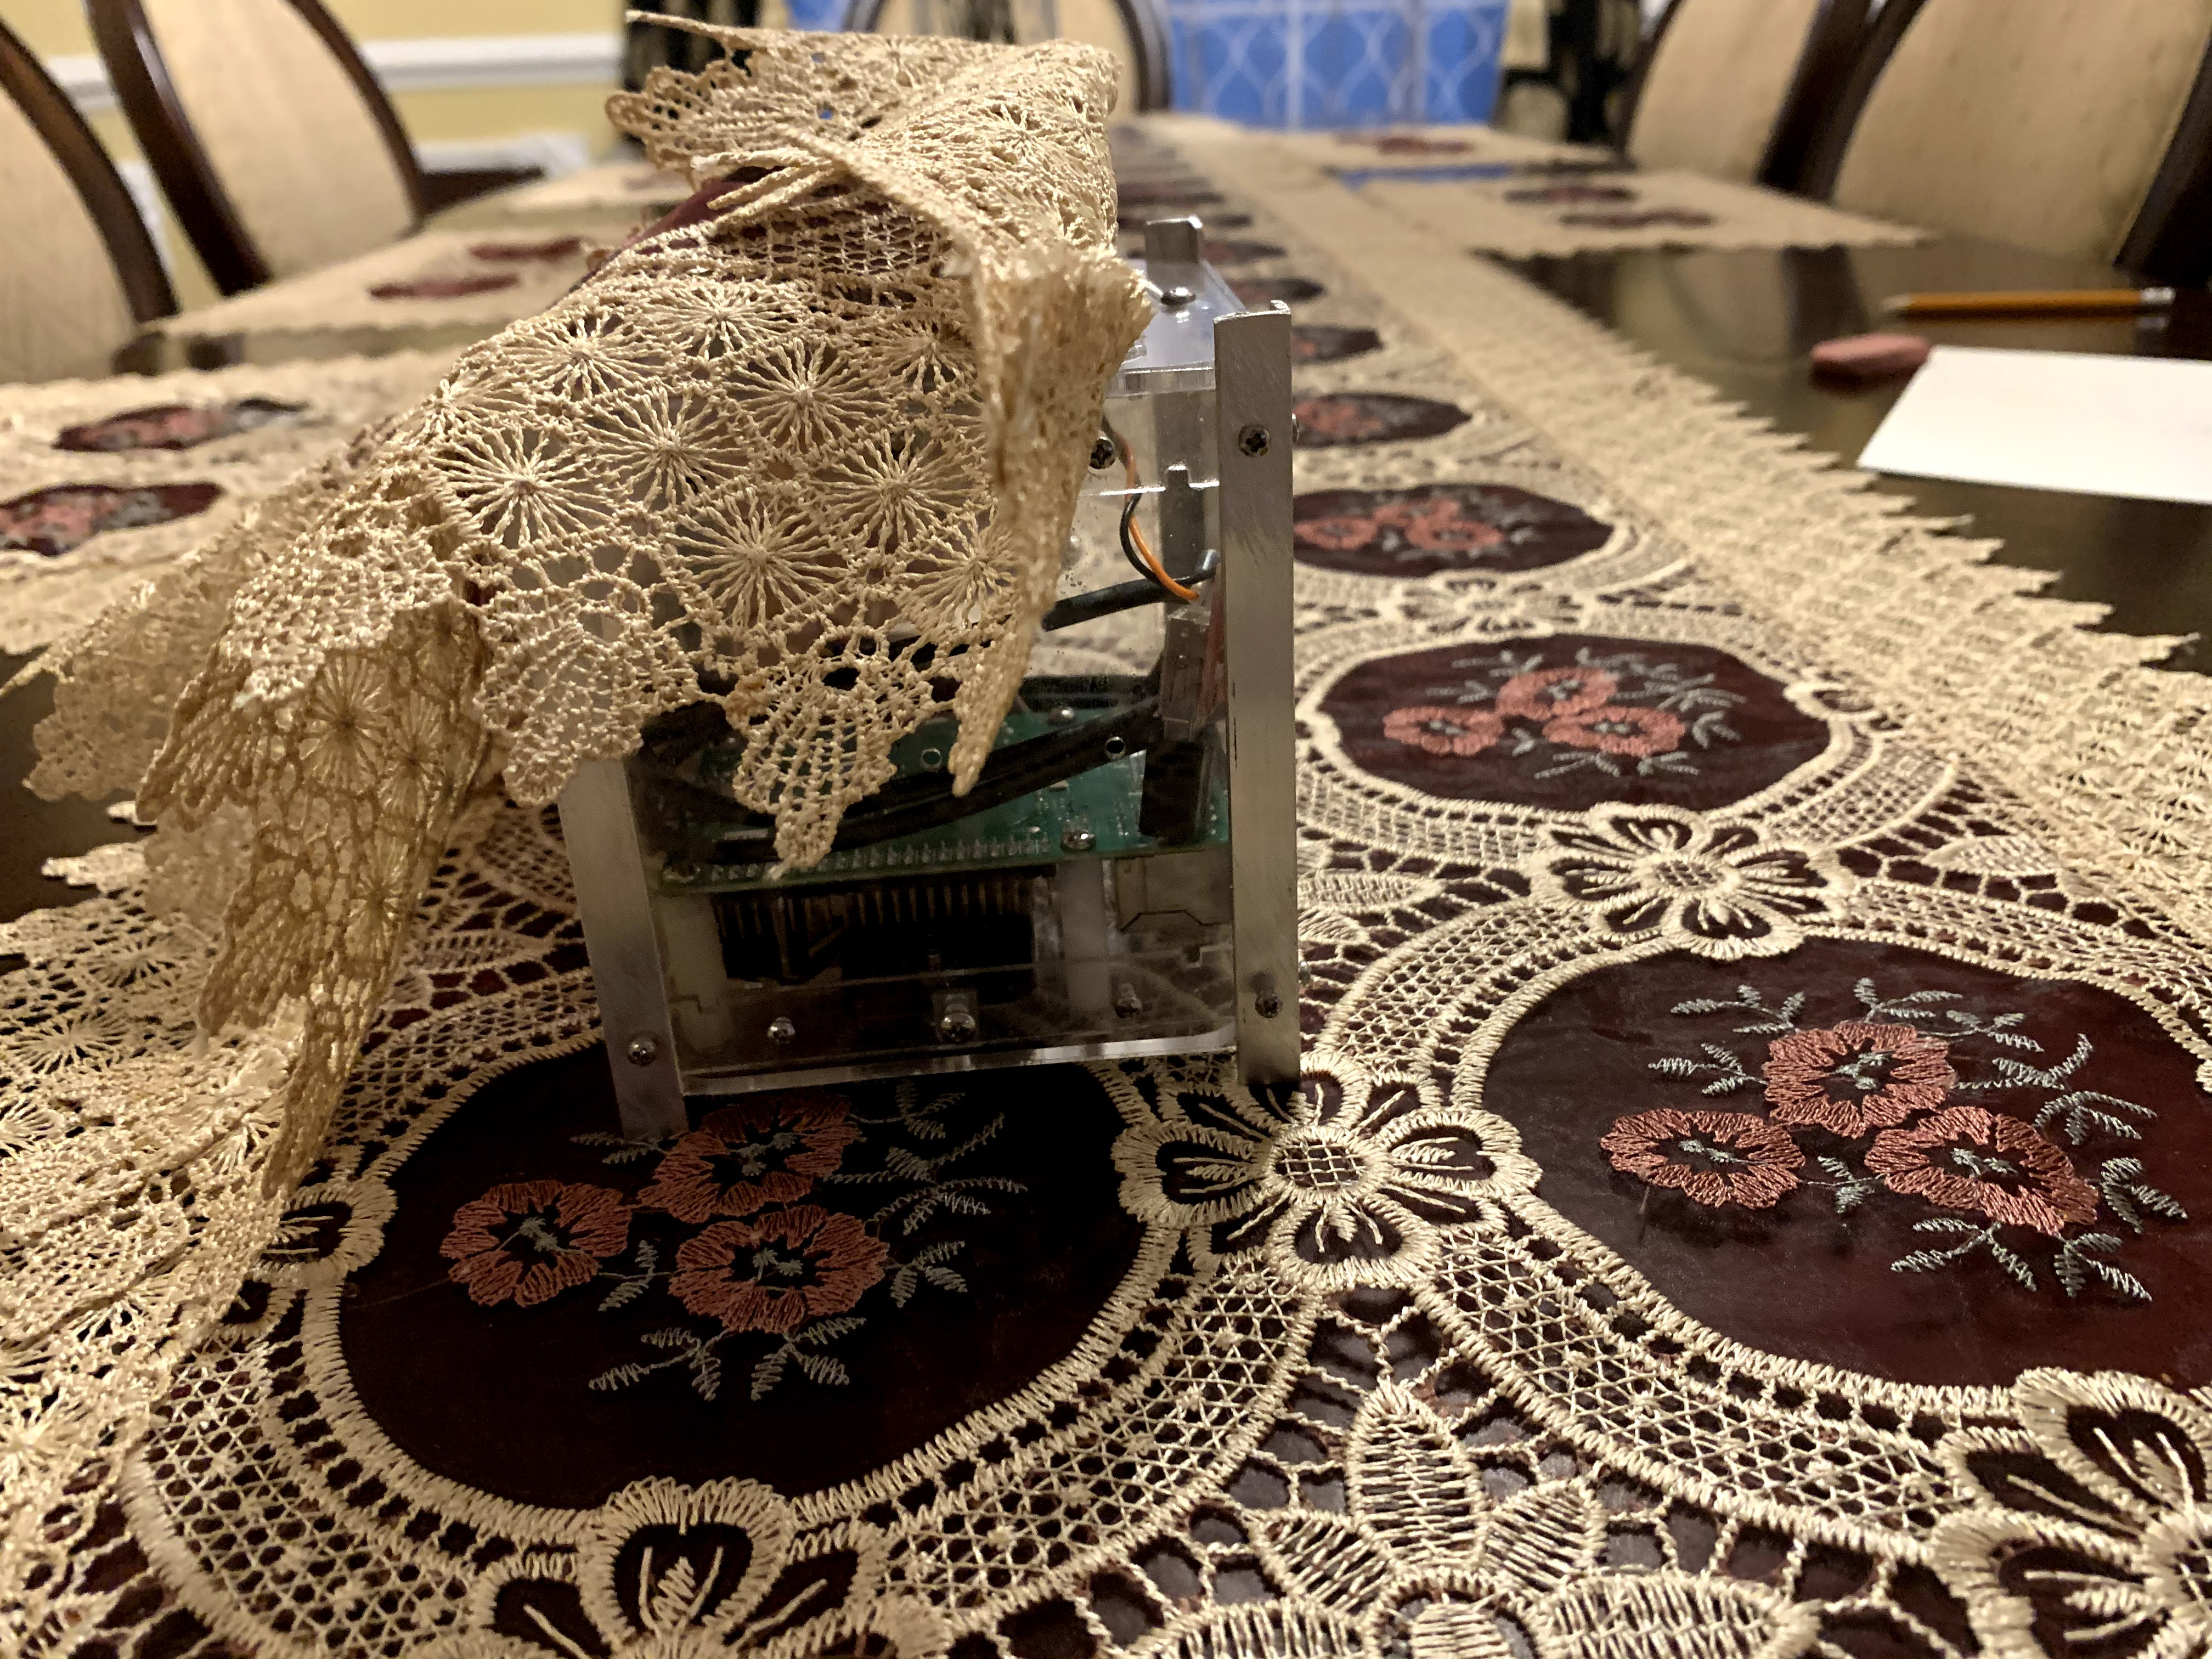Space-debris-cubesat: (577, 186, 1322, 1171)
